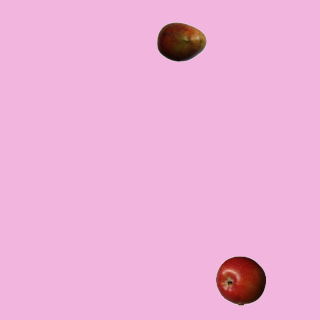Apple Braeburn: (215, 255, 265, 305)
Mango Red: (156, 16, 206, 66)
